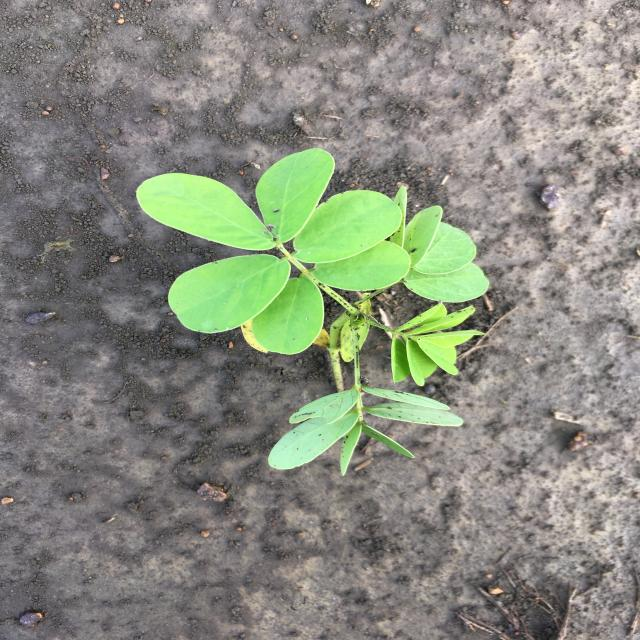Sicklepod: (135, 146, 491, 479)
